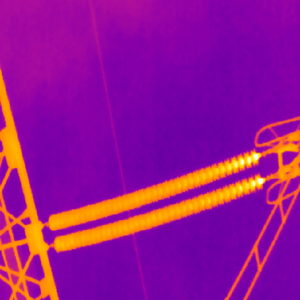insulator: (47, 145, 267, 253)
